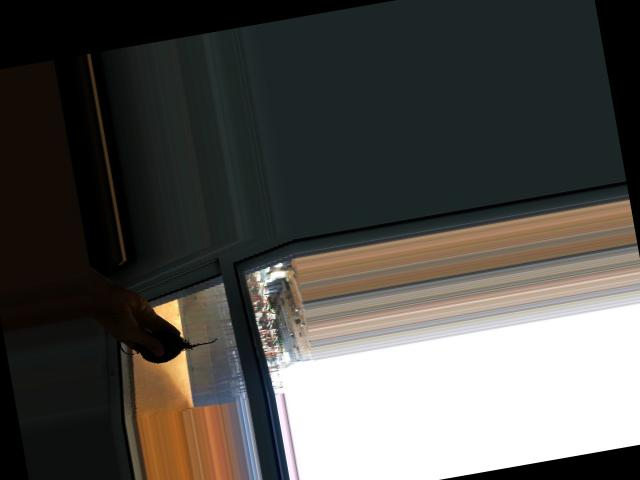beet: (117, 311, 220, 369)
